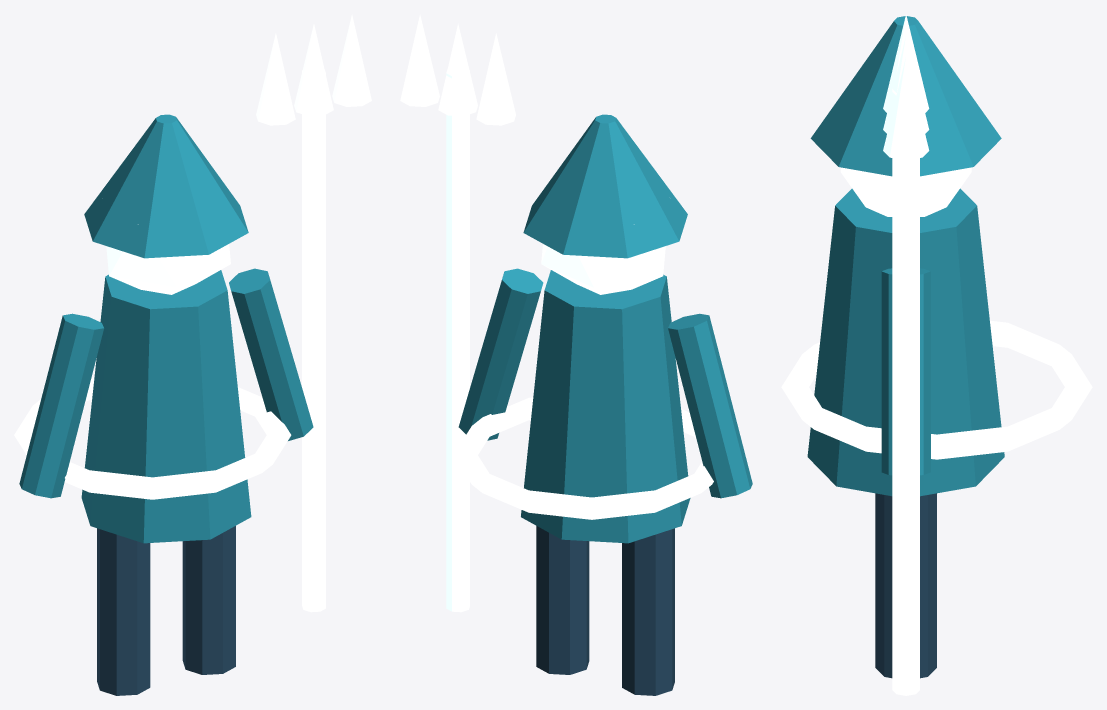
The model's file is hero_tide_walker.glb.
3 renders of one model, left to right at view 1: azimuth 30°, elevation 25°; view 2: azimuth 150°, elevation 25°; view 3: azimuth 270°, elevation 25°, orthographic. The views are drawn at different scales.
Parts seen in each view (by area): view 1: hero_tide_walker; view 2: hero_tide_walker; view 3: hero_tide_walker.
Boxes of the visible parts, bbox=[...] form: hero_tide_walker: bbox=[14, 14, 371, 695]; hero_tide_walker: bbox=[400, 14, 752, 695]; hero_tide_walker: bbox=[781, 14, 1092, 695].
Size of the model in its own units: 1.46 by 2.47 by 1.01.
